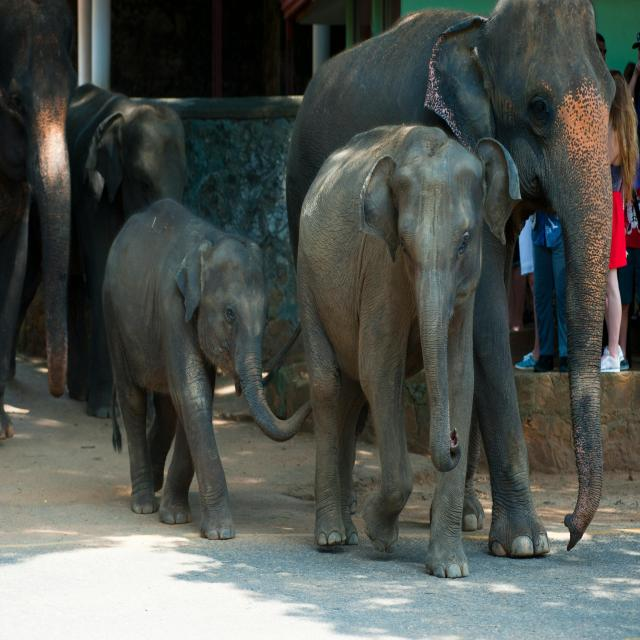Elephant: (285, 0, 617, 558), (297, 125, 484, 588), (102, 200, 314, 543), (0, 82, 193, 418), (0, 1, 72, 447)
